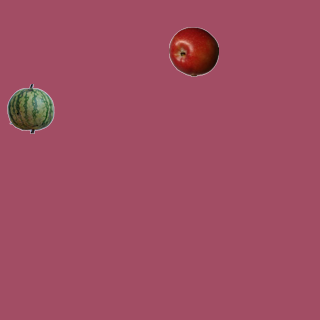Apple Braeburn: (168, 26, 218, 76)
Watermelon: (5, 83, 55, 133)
